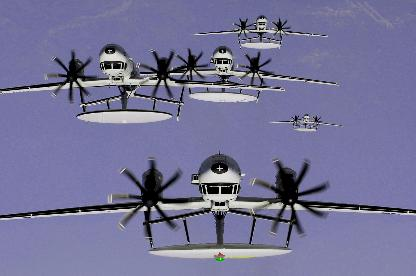C5: (0, 151, 415, 263), (0, 43, 285, 125), (140, 46, 338, 103), (192, 16, 328, 50), (268, 114, 342, 132)
